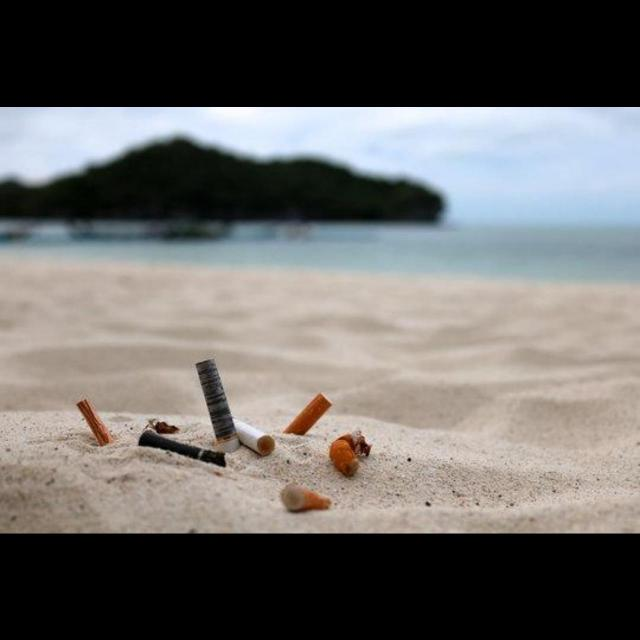cigarette: (196, 358, 239, 454), (282, 392, 333, 435), (328, 430, 373, 476), (233, 418, 275, 455), (281, 483, 331, 510)
